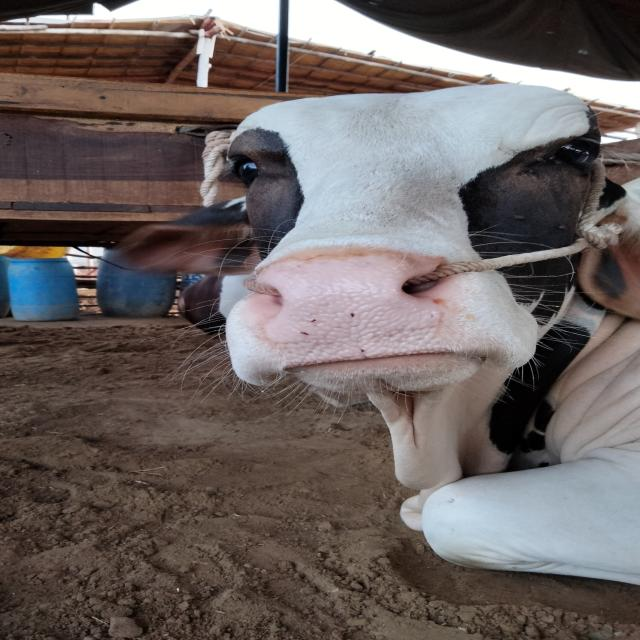muzzles: (215, 242, 512, 380)
